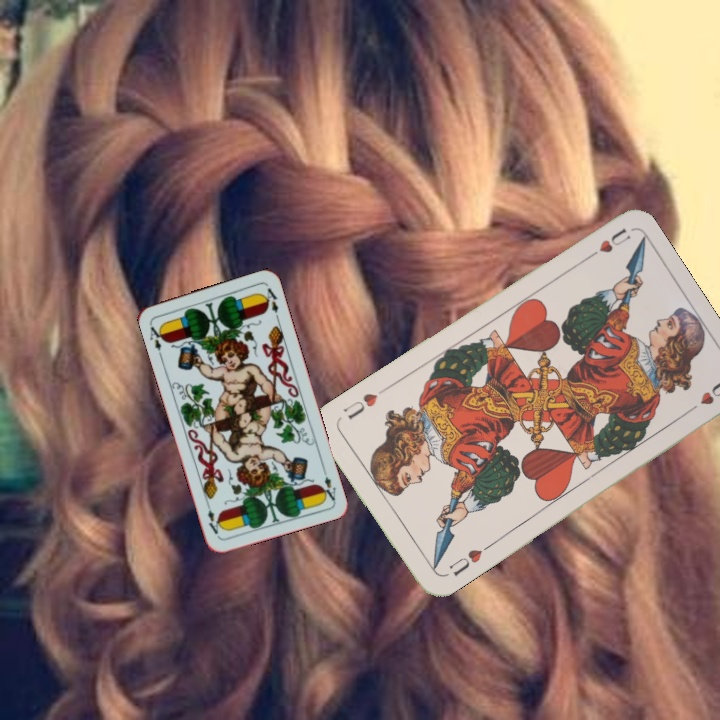EA: (145, 319, 168, 359), (318, 464, 338, 503)
HU: (579, 224, 634, 264), (445, 544, 485, 579)
